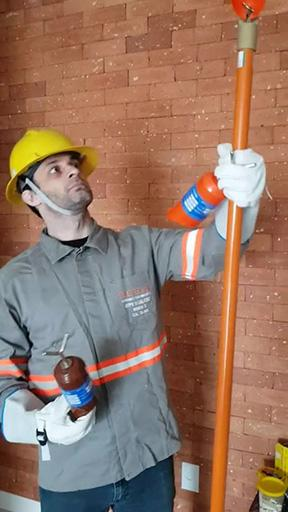Detector_Tensao_Contato: (165, 149, 255, 227), (43, 334, 97, 424)
Vara_Manobra: (211, 20, 258, 512)
